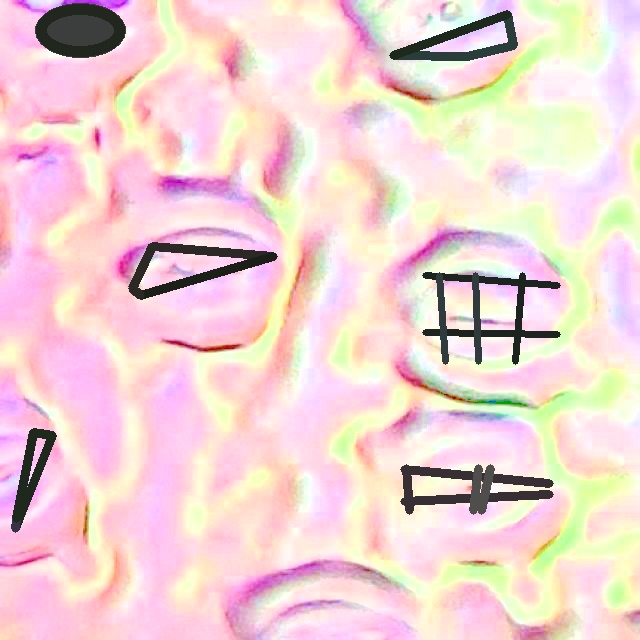open: (422, 272, 560, 364), (128, 242, 277, 299), (400, 464, 553, 514), (389, 10, 517, 60), (36, 3, 125, 56), (13, 428, 55, 531)
